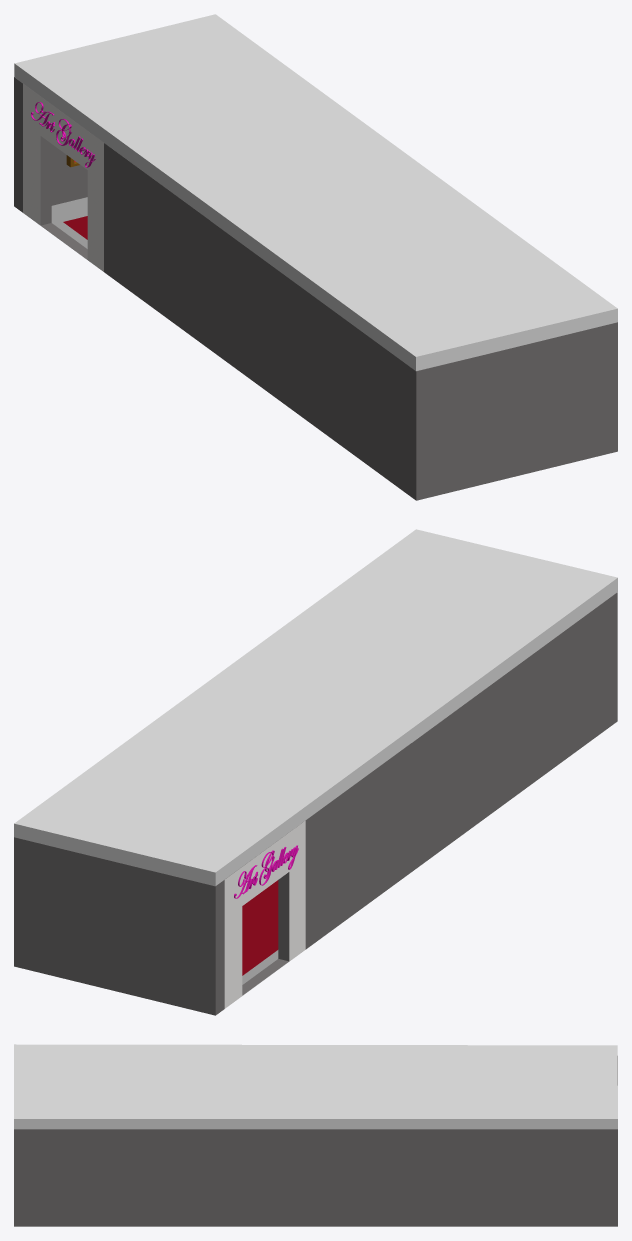
The model's file is Art Gallery2.fbx.
3 renders of one model, top to bottom at view 1: azimuth 30°, elevation 25°; view 2: azimuth 150°, elevation 25°; view 3: azimuth 270°, elevation 25°, orthographic. The views are drawn at different scales.
Visible parts, largest first — view 1: Arttop, Plane, Text; view 2: Arttop, Plane, Text; view 3: Plane, Arttop.
Part boxes in pixels (box(x1,y1,x2,y2)): Arttop: box(14, 14, 617, 370); Plane: box(14, 77, 617, 500); Text: box(31, 102, 95, 167); Arttop: box(14, 529, 617, 885); Plane: box(14, 592, 617, 1015); Text: box(234, 845, 298, 898); Plane: box(14, 1056, 617, 1226); Arttop: box(14, 1044, 617, 1129).
Bounding box in the file's own units: 883 × 598 × 3029.
